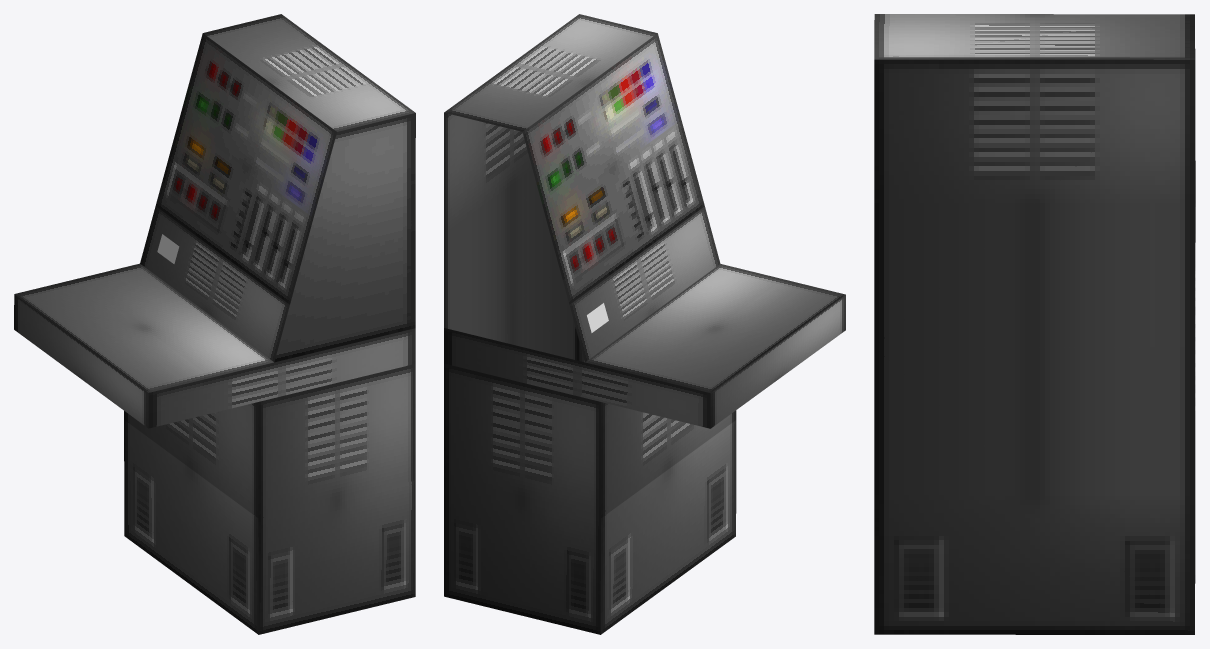
Rendered from console.glb.
3 renders of one model, left to right at view 1: azimuth 30°, elevation 25°; view 2: azimuth 150°, elevation 25°; view 3: azimuth 270°, elevation 25°, orthographic. The views are drawn at different scales.
Visible parts, largest first — view 1: Object; view 2: Object; view 3: Object.
Part boxes in pixels (x1,y1,x2,y2): Object: [14, 14, 415, 634]; Object: [444, 14, 845, 634]; Object: [874, 14, 1195, 634].
Size of the model in its own units: 1.03 by 1.78 by 0.9015.
Materials: 21 (21 with a texture image).
